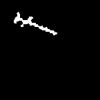double_crochet: (14, 12, 56, 34)
